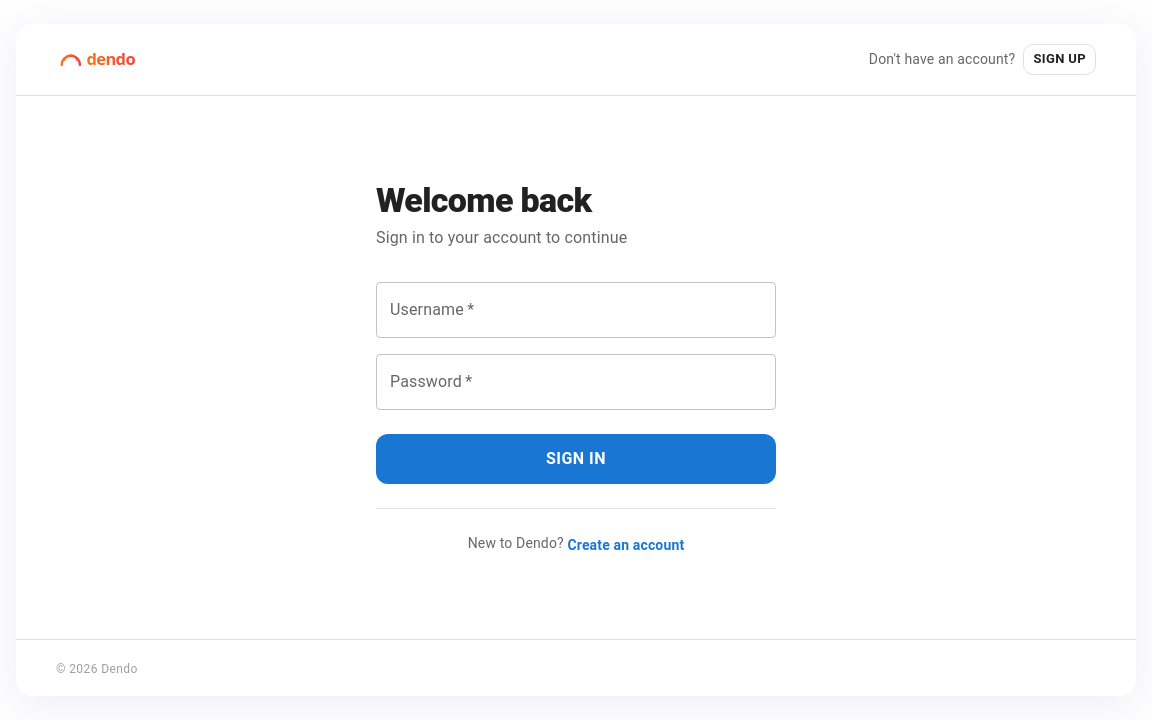
it: LoginPage › shows an error message when login fails
The image size is (1152, 720).
Step 1. Type "admin" into the field labelled "Username *" → coordinates (576, 310), box [376,282,776,338]
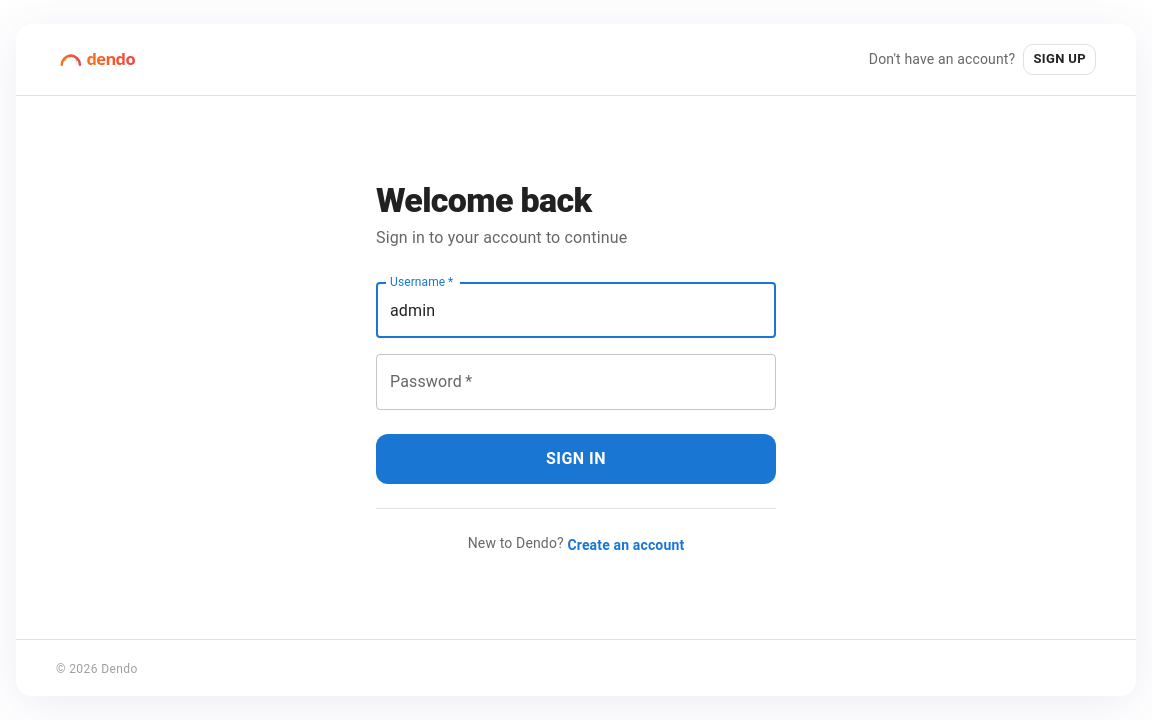
Step 2. Type "wrong" into the password field labelled "Password *" → coordinates (576, 382), box [376,354,776,410]
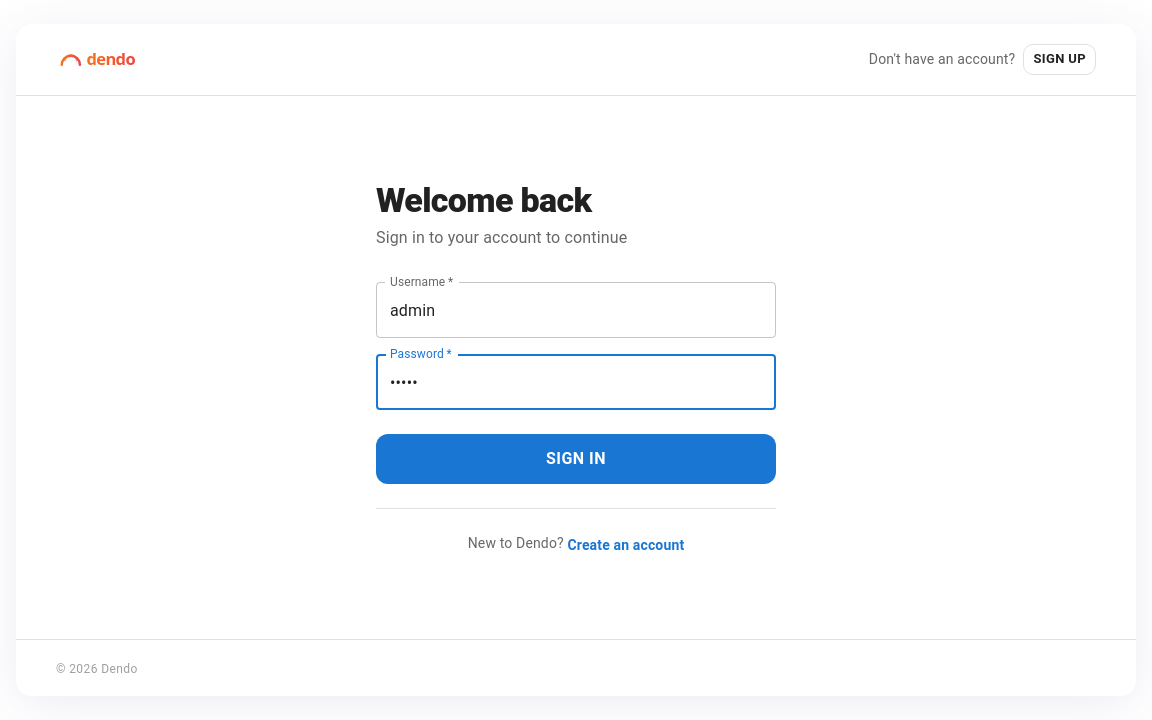
Step 3. Click the button "Sign in" → coordinates (576, 459), box [376,434,776,484]
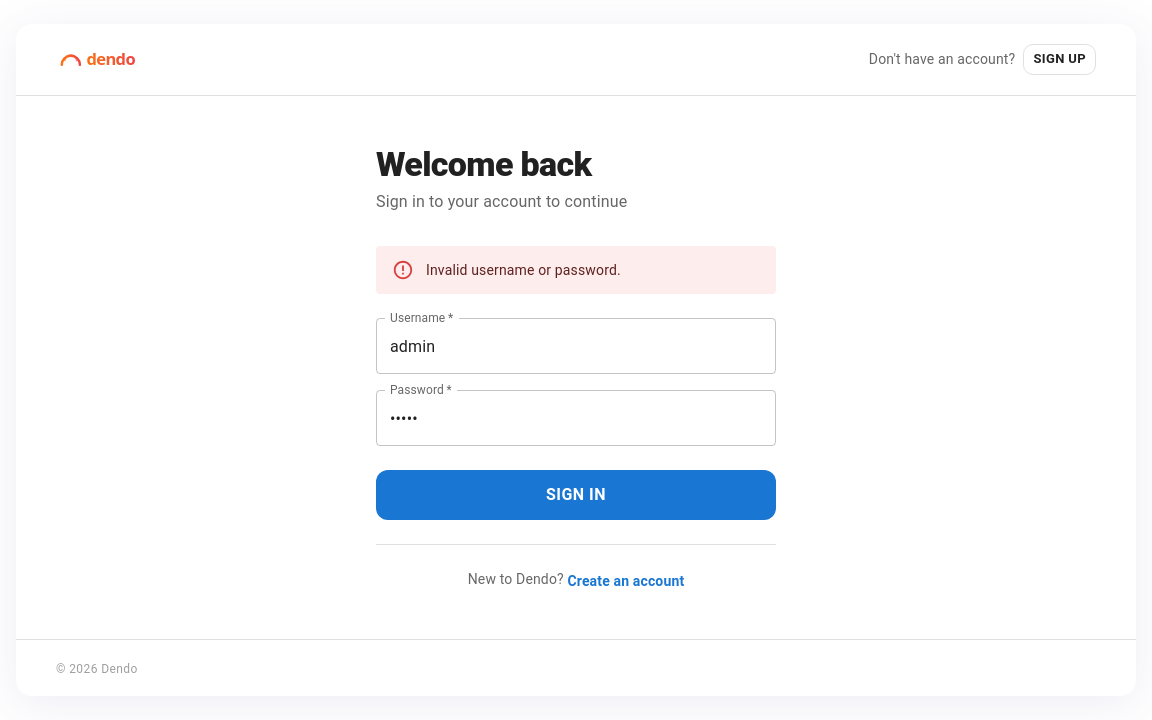
Check: the text "Invalid username or password." is shown, box [426,262,621,278]
